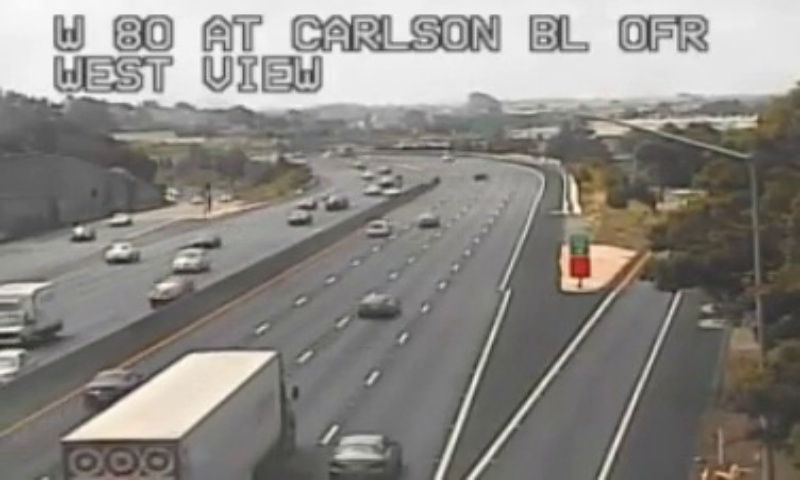car: (327, 434, 400, 478), (85, 369, 142, 406), (357, 294, 400, 319), (365, 220, 389, 236)
truck: (59, 348, 291, 480)
